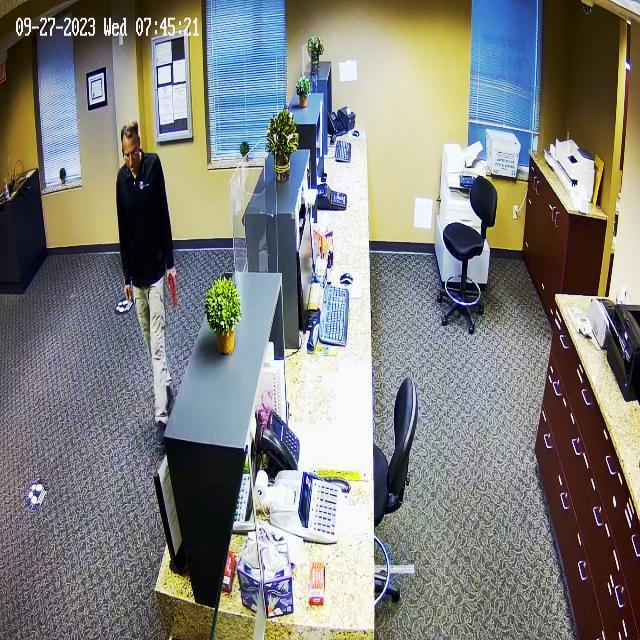Gun: (161, 264, 192, 310)
